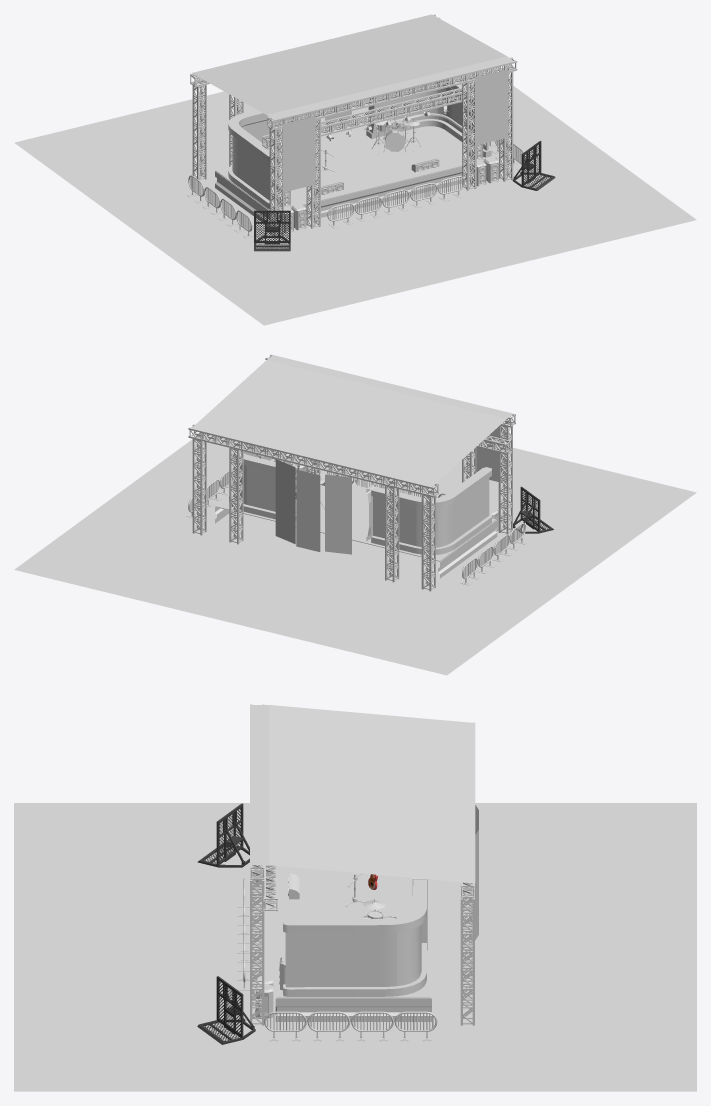
The model's file is omurice_envis_stage_1.fbx.
The picture shows the model from 3 angles, top to bottom: view 1: azimuth 30°, elevation 25°; view 2: azimuth 150°, elevation 25°; view 3: azimuth 270°, elevation 25°; orthographic projection. The views are drawn at different scales.
Parts seen in each view (by area): view 1: concrete, roof, stage_main, banner_R, banner_L, curved_screen_R_1, basicbarricades, curved_screen_L_2, concertbarricades, curved_screen_R_2, concertbarricades1, curved_screen_L_1 (+1 smaller); view 2: concrete, roof, curved_screen_R_1, stage_main, curved_screen_R_2, Panel_R, panel_middle, panel_L, curved_screen_L_1, curved_screen_L_2, concertbarricades, banner_R; view 3: concrete, roof, stage_main, curved_screen_L_1, curved_screen_L_2, concertbarricades1, concertbarricades, basicbarricades, basicbarricades_5, basicbarricades_1, basicbarricades_3, basicbarricades_4.
Boxes of the visible parts, x1,y1,x2,y2 form: concrete: (14,69,696,325); roof: (191,14,513,119); stage_main: (215,126,497,226); banner_R: (282,116,315,192); banner_L: (475,69,507,145); curved_screen_R_1: (228,109,288,181); basicbarricades: (327,176,464,228); curved_screen_L_2: (376,97,491,157); concertbarricades: (254,210,290,251); curved_screen_R_2: (228,134,281,208); concertbarricades1: (512,141,555,190); curved_screen_L_1: (376,77,474,117); concrete: (14,433,696,675); roof: (191,355,513,486); curved_screen_R_1: (371,467,491,527); stage_main: (215,484,497,578); curved_screen_R_2: (371,495,491,555); Panel_R: (325,474,351,554); panel_middle: (296,469,320,551); panel_L: (275,459,295,544); curved_screen_L_1: (231,441,275,490); curved_screen_L_2: (229,448,275,519); concertbarricades: (513,486,553,533); banner_R: (476,419,507,482); concrete: (14,803,696,1091); roof: (251,705,475,883); stage_main: (275,866,431,1021); curved_screen_L_1: (283,879,426,958); curved_screen_L_2: (283,943,426,996); concertbarricades1: (197,976,255,1044); concertbarricades: (197,803,249,867); basicbarricades: (237,878,249,990); basicbarricades_5: (394,1011,437,1041); basicbarricades_1: (264,1011,306,1041); basicbarricades_3: (307,1011,350,1041); basicbarricades_4: (351,1011,393,1041).
Bounding box in the file's own units: 248 × 64.92 × 248.
